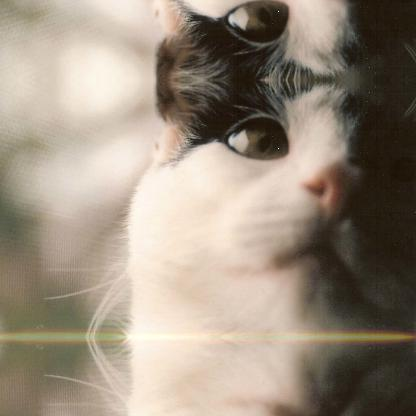Cat: (42, 78, 414, 334), (42, 0, 415, 80), (42, 338, 415, 415)
